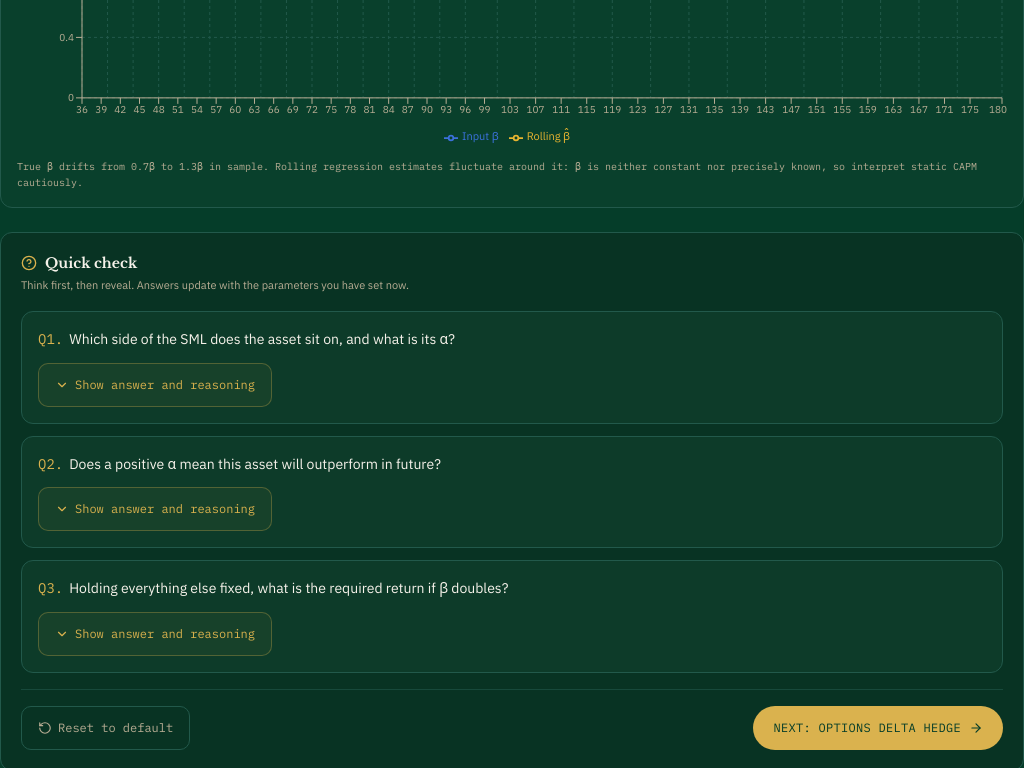
Scenario: Reset clears stale quiz feedback › check-block Reset closes revealed answers and restores the default numbers
Later steps or results of the test are not shown.
(page scrolled)
Click the 1st button "Show answer and reasoning".
click(155, 385)  # box [38, 363, 272, 407]
(page scrolled)
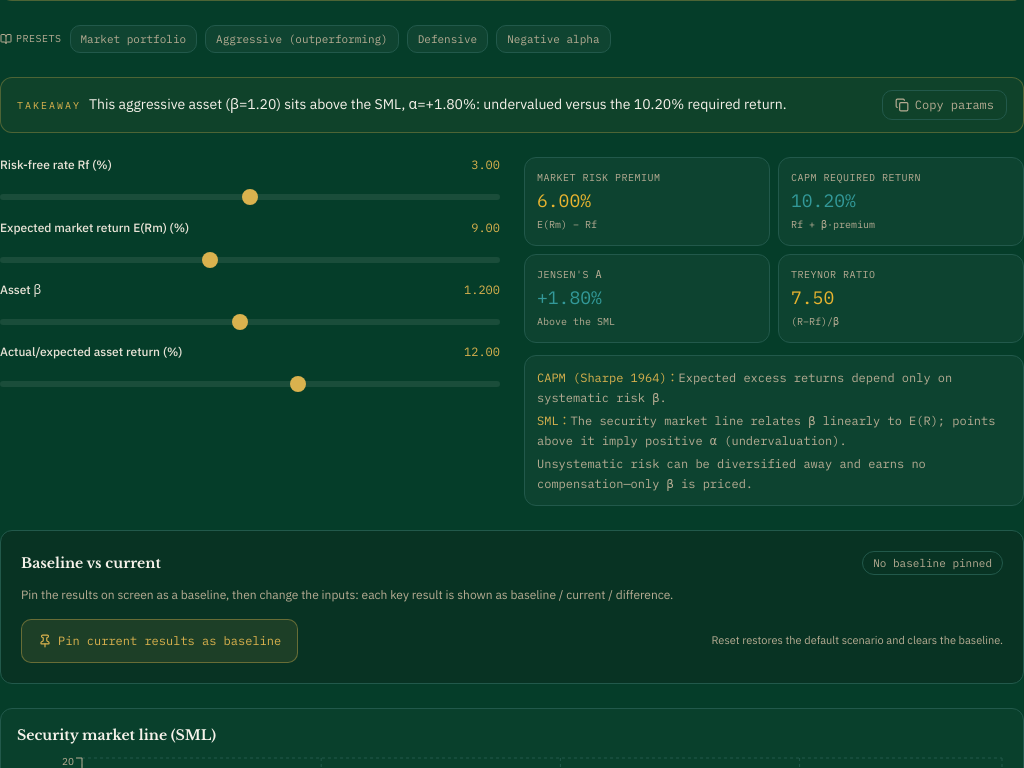
Set the slider named "Actual/expected asset return (%)" to "0" at (8, 384), box [0, 381, 500, 387]
(page scrolled)
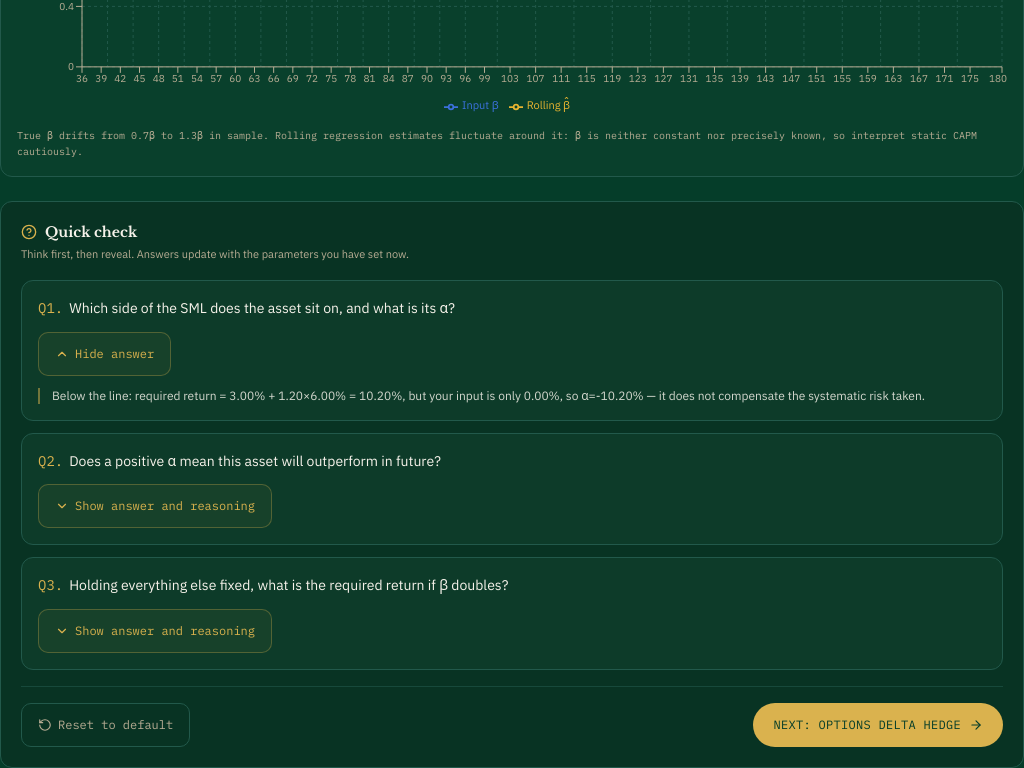
Click the button with test id "path-reset".
click(106, 725)  # box [21, 703, 190, 747]
(page scrolled)
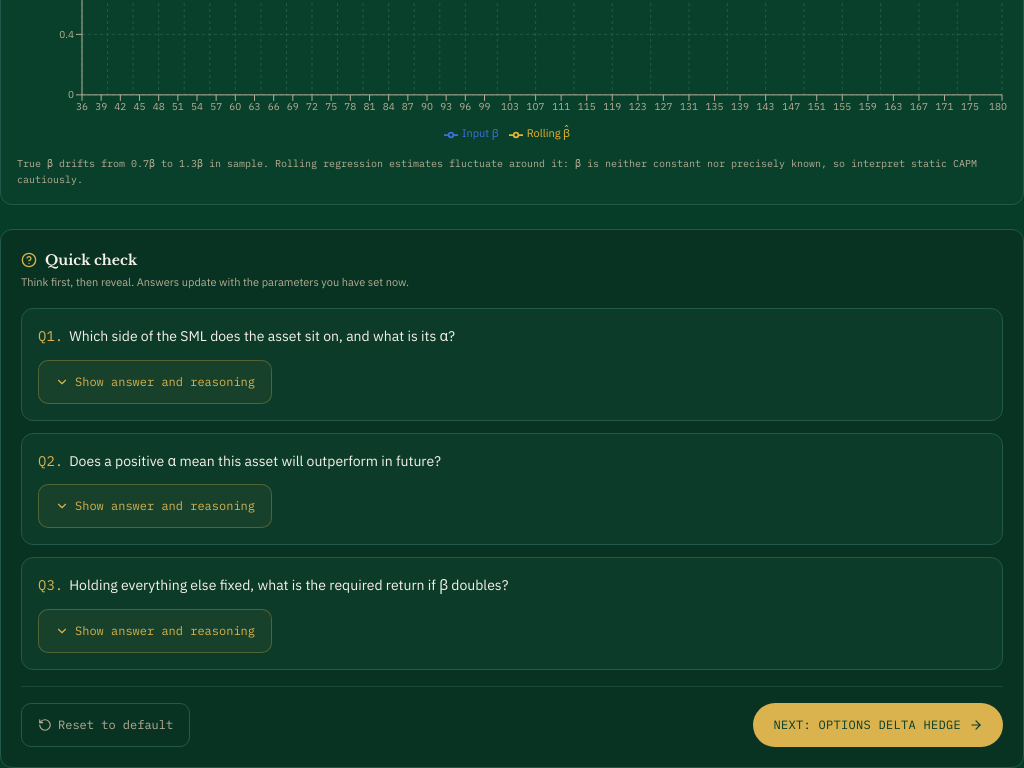
Expected: the number of buttons "Show answer and reasoning" is 3, [38, 360, 272, 404]; [38, 484, 272, 528]; [38, 609, 272, 653]
Expected: the button "Hide answer" is gone
